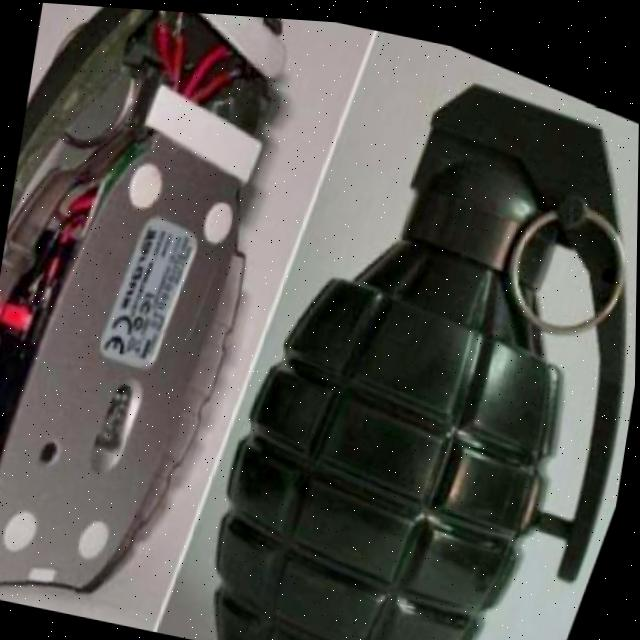grenade: (159, 9, 640, 640)
